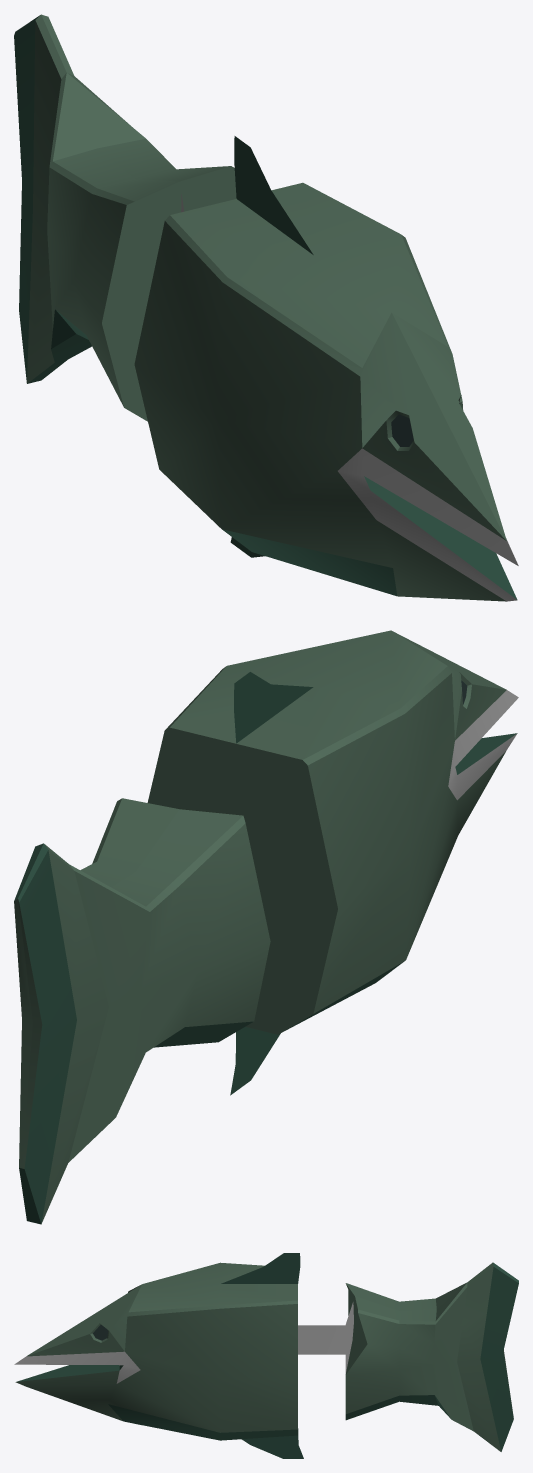
File: Fish rotten model.fbx
3 views of the same model, one above another, from view 1: azimuth 30°, elevation 25°; view 2: azimuth 150°, elevation 25°; view 3: azimuth 270°, elevation 25° (orthographic). The views are drawn at different scales.
Parts seen in each view (by area): view 1: Cube.001; view 2: Cube.001; view 3: Cube.001.
Part boxes in pixels (bbox=[...]): Cube.001: bbox=[14, 14, 518, 601]; Cube.001: bbox=[14, 630, 518, 1224]; Cube.001: bbox=[14, 1253, 518, 1458].
Size of the model in its own units: 152 by 292 by 648.
